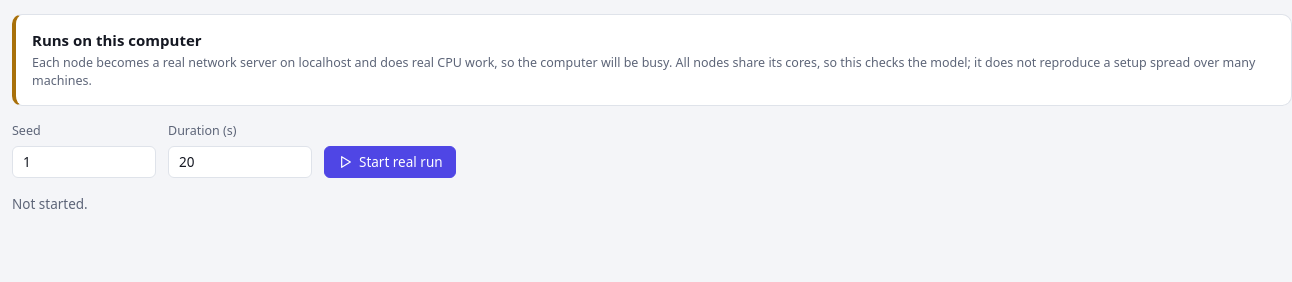
RealPanel › starts with the chosen options and shows progress
The width and height of the screenshot is (1292, 282).
What coordinates should you click on to do the following:
click the button "Start real run"
I would click on:
 (390, 162)
Its box is [324, 146, 456, 178].
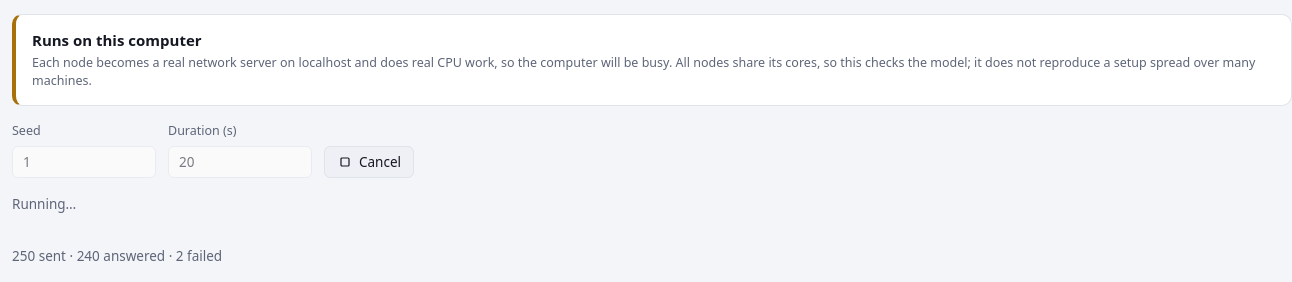
Check: the text "250 sent · 240 answered · 2 failed" is shown, box [12, 247, 222, 265]
Check: the button "Cancel" is shown, box [324, 146, 414, 178]
